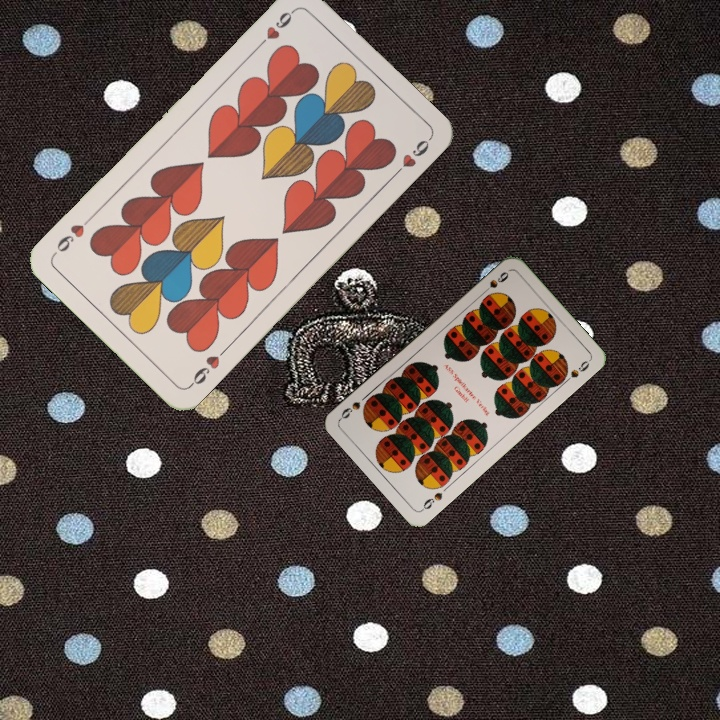H9: (252, 5, 298, 52), (185, 343, 230, 390)
S9: (478, 267, 511, 298), (417, 488, 445, 514)
